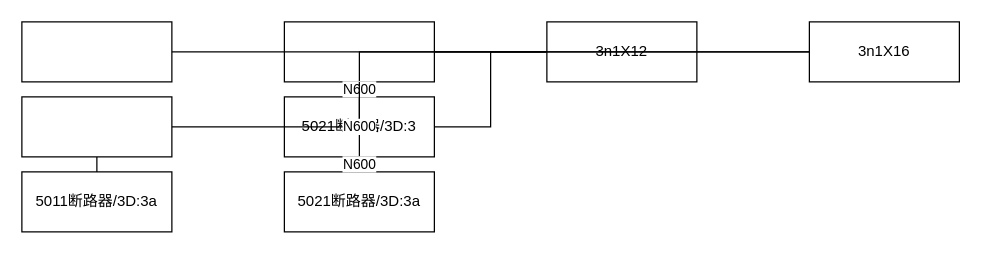
The diagram is 981 pixels wide and 254 high, and some of its shapes have lost their labels. Each missing label, with the centre of its shape:
"5011断路器/3D:2" belongs at [96,51].
"5011断路器/3D:3" belongs at [96,126].
"5021断路器/3D:2" belongs at [358,51].
